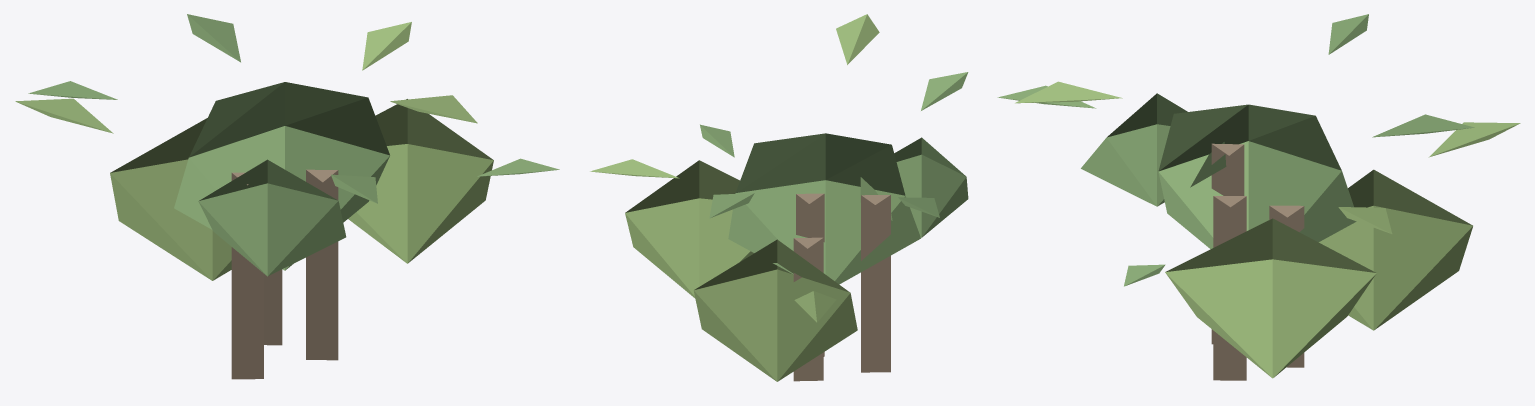
The model's file is guan.zhen@subadult__bloom.glb.
3 views of the same model, side by side, from view 1: azimuth 30°, elevation 25°; view 2: azimuth 150°, elevation 25°; view 3: azimuth 270°, elevation 25° (orthographic). The views are drawn at different scales.
Visible parts, largest first — view 1: guan.zhen@subadult__bloom; view 2: guan.zhen@subadult__bloom; view 3: guan.zhen@subadult__bloom.
Part boxes in pixels (x1=…): guan.zhen@subadult__bloom: x1=15, y1=14, x2=559, y2=379; guan.zhen@subadult__bloom: x1=590, y1=14, x2=968, y2=381; guan.zhen@subadult__bloom: x1=997, y1=14, x2=1520, y2=380.
Bounding box in the file's own units: 1.46 × 1.06 × 1.64.
